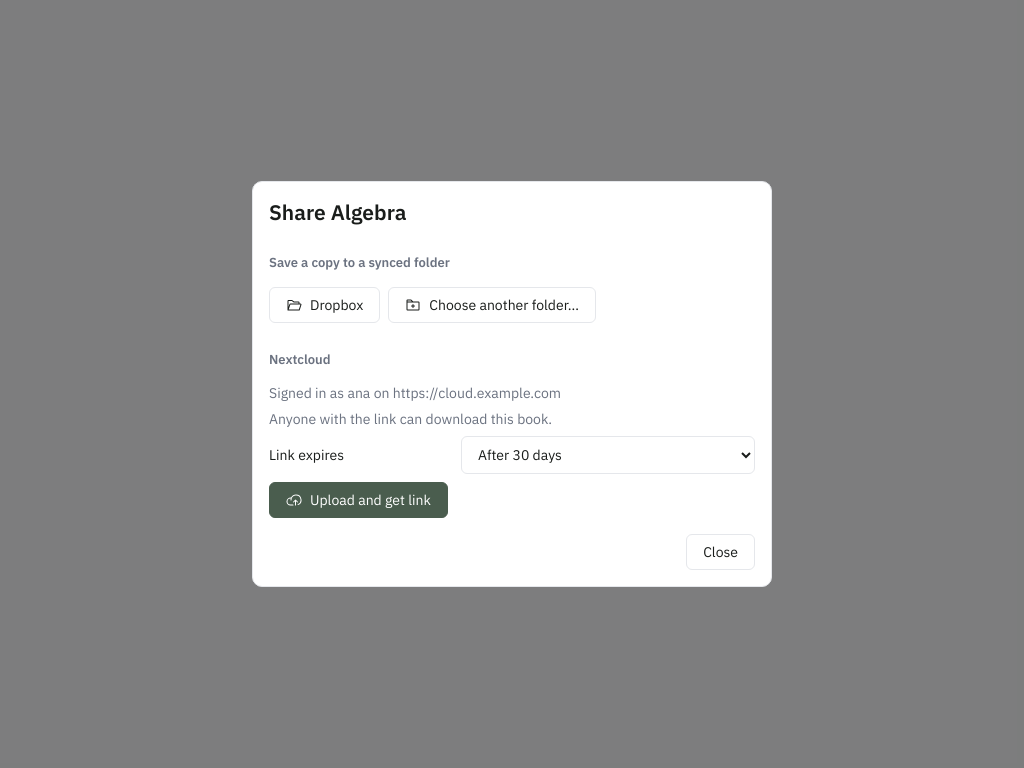
Test: ShareDialog › uploads with the chosen expiry and copies the link
Select "After 7 days" in the dropdown labelled "Link expires" at x=608, y=455, box 461,436 -> 755,474
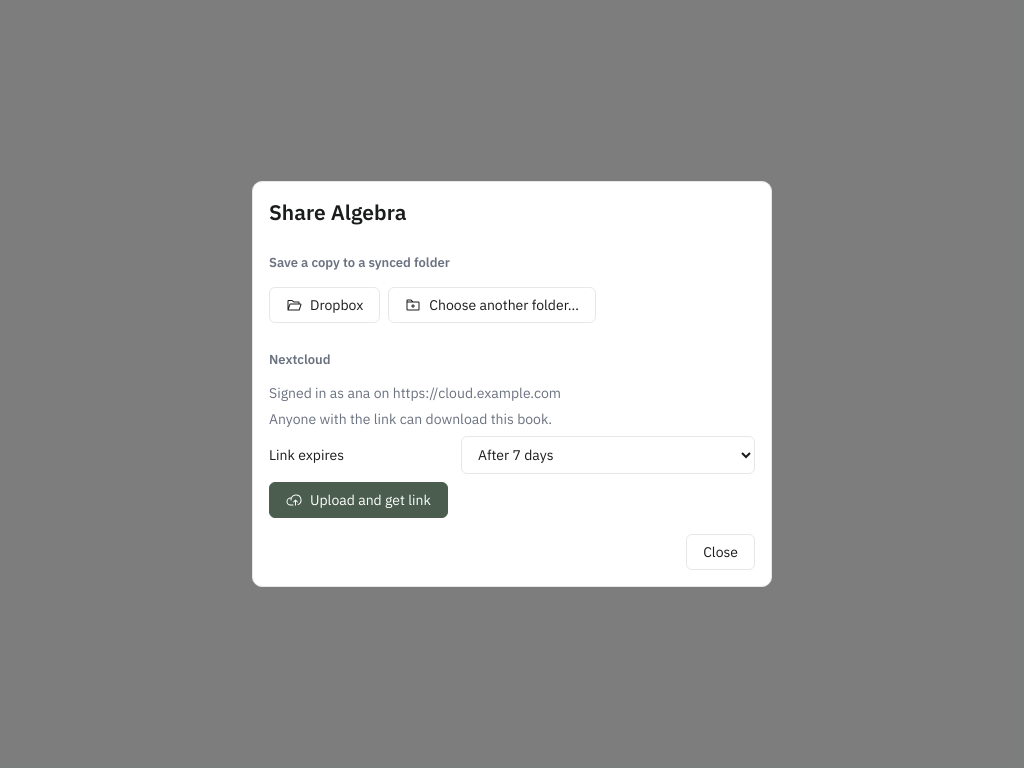
Click the button "Upload and get link" at x=358, y=500, box 269,482 -> 448,518
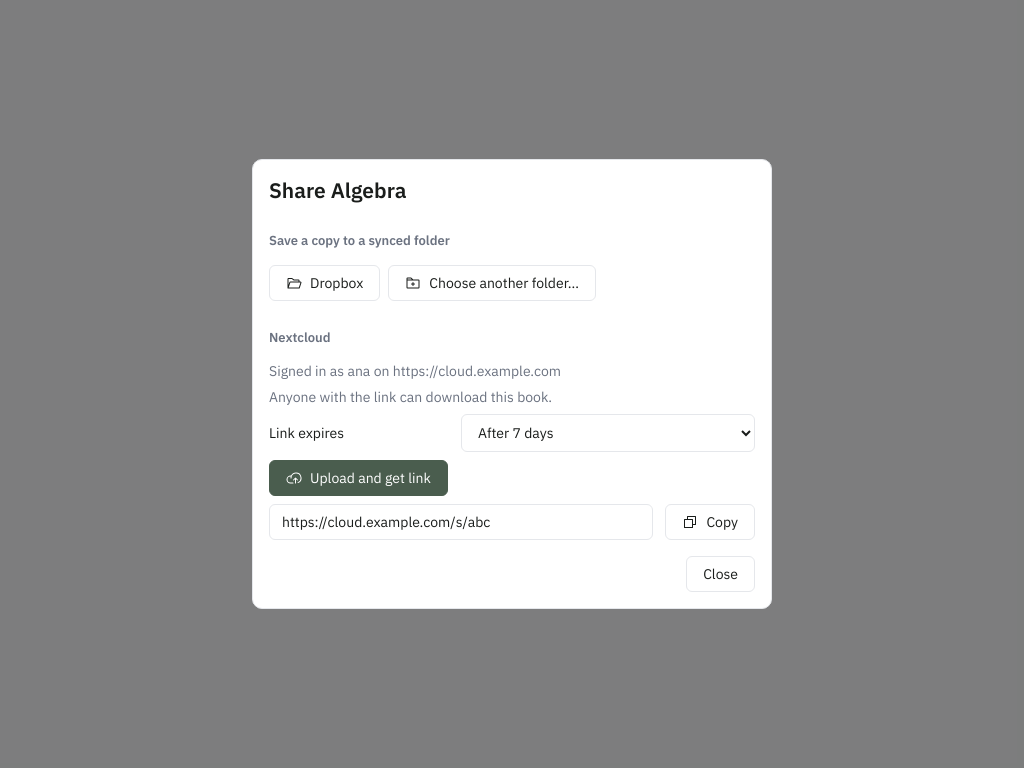
Result: the field named "Share link" holds "https://cloud.example.com/s/abc" at 269,504 -> 653,540
Click the button "Copy" at x=710, y=522, box 665,504 -> 755,540
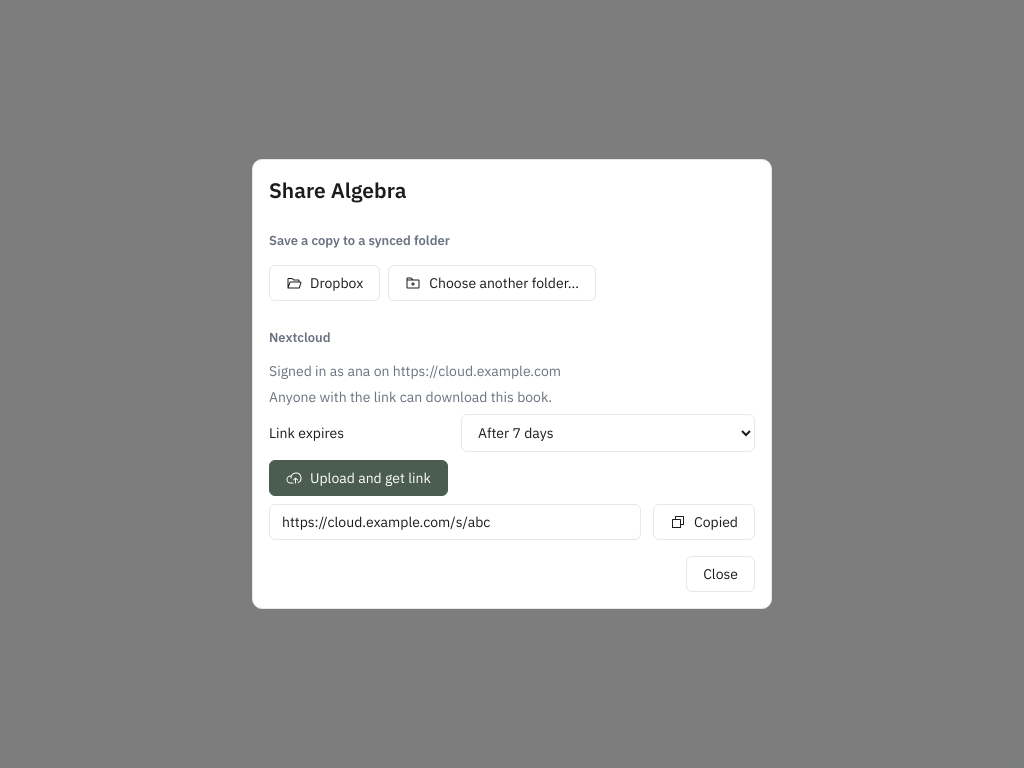
Result: the button "Copied" is shown at 653,504 -> 755,540
